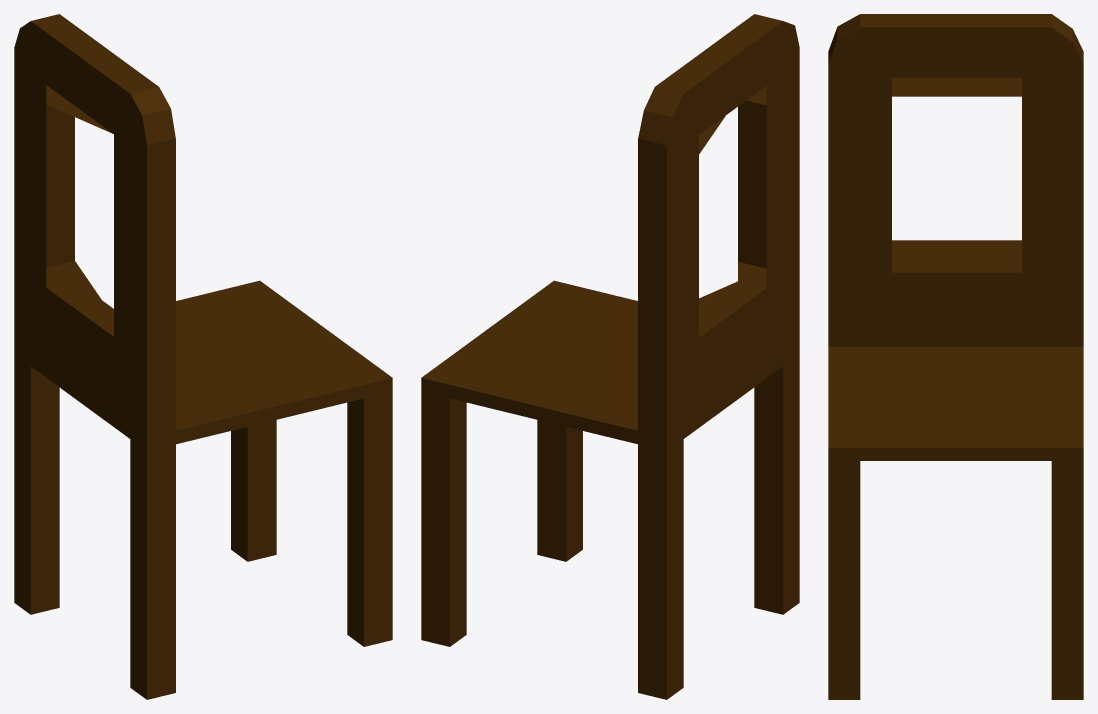
The model's file is стул.fbx.
3 views of the same model, side by side, from view 1: azimuth 30°, elevation 25°; view 2: azimuth 150°, elevation 25°; view 3: azimuth 270°, elevation 25° (orthographic). The views are drawn at different scales.
Parts seen in each view (by area): view 1: Куб; view 2: Куб; view 3: Куб.
Part boxes in pixels (x1,y1,x2,y2): Куб: [14, 14, 392, 699]; Куб: [421, 14, 799, 699]; Куб: [828, 14, 1083, 699].
Bounding box in the file's own units: 214 × 493 × 200.
